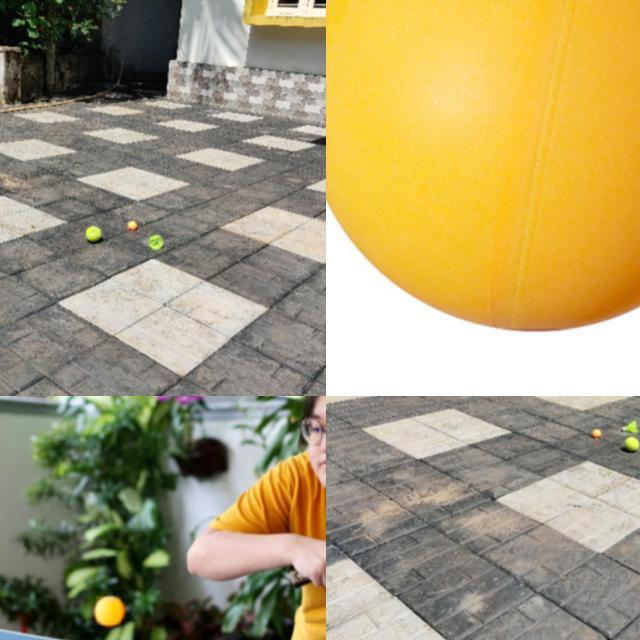ping-pong-ball: (326, 0, 639, 330), (96, 596, 122, 626), (128, 220, 136, 230), (593, 429, 601, 437)
